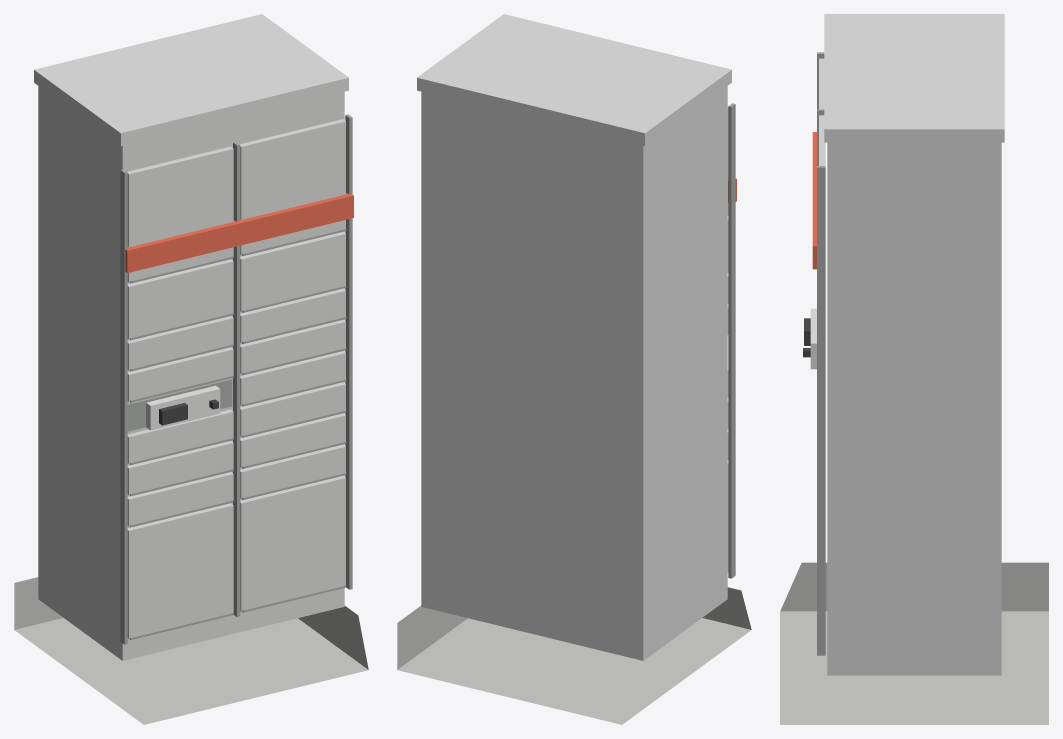
The model's file is sockel_1.glb.
3 renders of one model, left to right at view 1: azimuth 30°, elevation 25°; view 2: azimuth 150°, elevation 25°; view 3: azimuth 270°, elevation 25°, orthographic. The views are drawn at different scales.
Parts seen in each view (by area): view 1: Body, Top, Betonsockel, Door_0_0, Door_1_0, Door_0_8, Door_1_8, RedBand, Door_0_7, Door_1_7, Frame_-0.5, Frame_0 (+14 smaller); view 2: Body, Top, Betonsockel, Frame_-0.5; view 3: Body, Top, Betonsockel, Frame_0.5, RedBand.
Boxes of the visible parts, left/top/right/bottom form: Body: left=38, top=86, right=344, bottom=660; Top: left=34, top=14, right=348, bottom=145; Betonsockel: left=14, top=577, right=368, bottom=724; Door_0_0: left=127, top=503, right=233, bottom=638; Door_1_0: left=240, top=476, right=345, bottom=611; Door_0_8: left=127, top=146, right=233, bottom=282; Door_1_8: left=240, top=119, right=345, bottom=255; RedBand: left=125, top=193, right=353, bottom=272; Door_0_7: left=127, top=259, right=233, bottom=339; Door_1_7: left=240, top=232, right=345, bottom=311; Frame_-0.5: left=120, top=169, right=127, bottom=644; Frame_0: left=233, top=142, right=240, bottom=617; Body: left=421, top=86, right=727, bottom=660; Top: left=417, top=14, right=731, bottom=145; Betonsockel: left=397, top=587, right=751, bottom=724; Frame_-0.5: left=728, top=103, right=735, bottom=578; Body: left=827, top=142, right=1001, bottom=675; Top: left=824, top=14, right=1004, bottom=142; Betonsockel: left=780, top=562, right=1048, bottom=724; Frame_0.5: left=817, top=166, right=825, bottom=655; RedBand: left=812, top=132, right=816, bottom=269.
Size of the model in its own units: 1.01 by 2.45 by 1.
